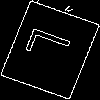L: (25, 25, 81, 68)
